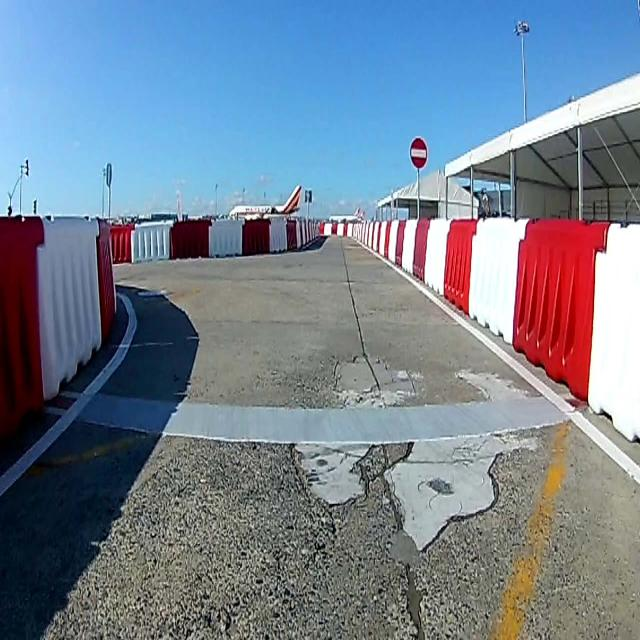girisyok: (408, 136, 430, 169)
